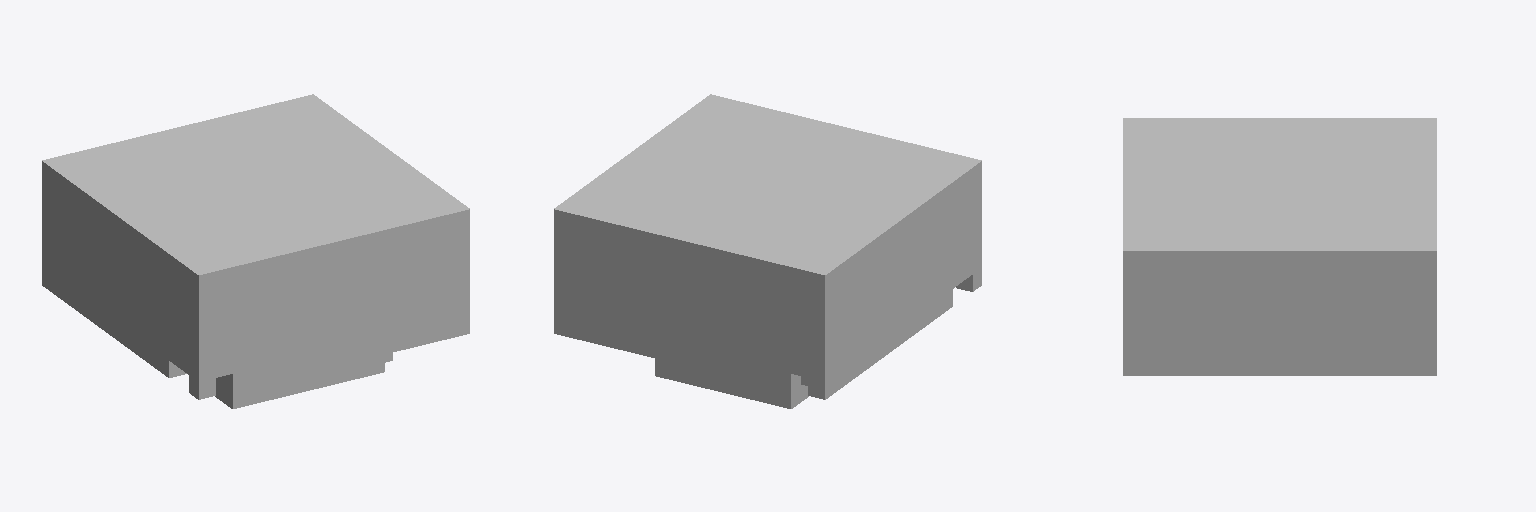
File: Tile3.obj
The picture shows the model from 3 angles: view 1: azimuth 30°, elevation 25°; view 2: azimuth 150°, elevation 25°; view 3: azimuth 270°, elevation 25°; orthographic projection.
Visible parts, largest first — view 1: object 1; view 2: object 1; view 3: object 1.
Boxes of the visible parts, box(x1,y1,x2,y2) form: object 1: box(42, 94, 469, 408); object 1: box(554, 94, 981, 408); object 1: box(1123, 118, 1436, 375).
Size of the model in its own units: 1.6 by 0.8 by 1.6.